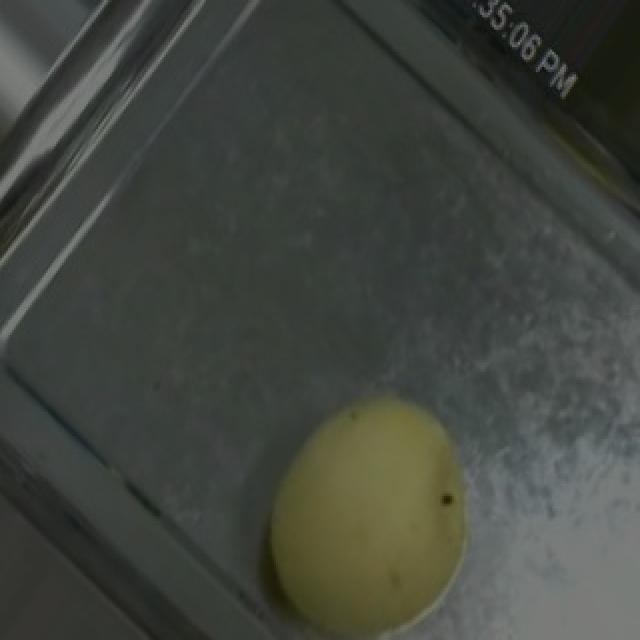Fruit: (222, 364, 502, 640)
